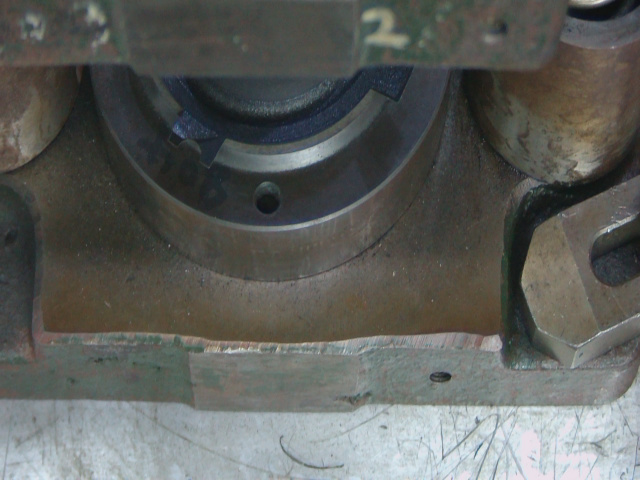NG: (169, 107, 237, 176)
